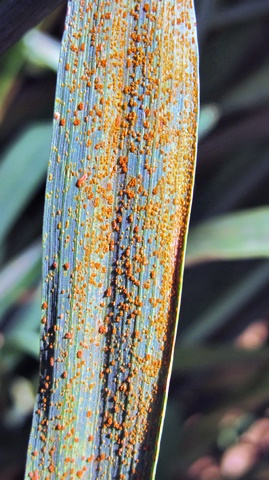Leaf Rust: (38, 17, 203, 480)
